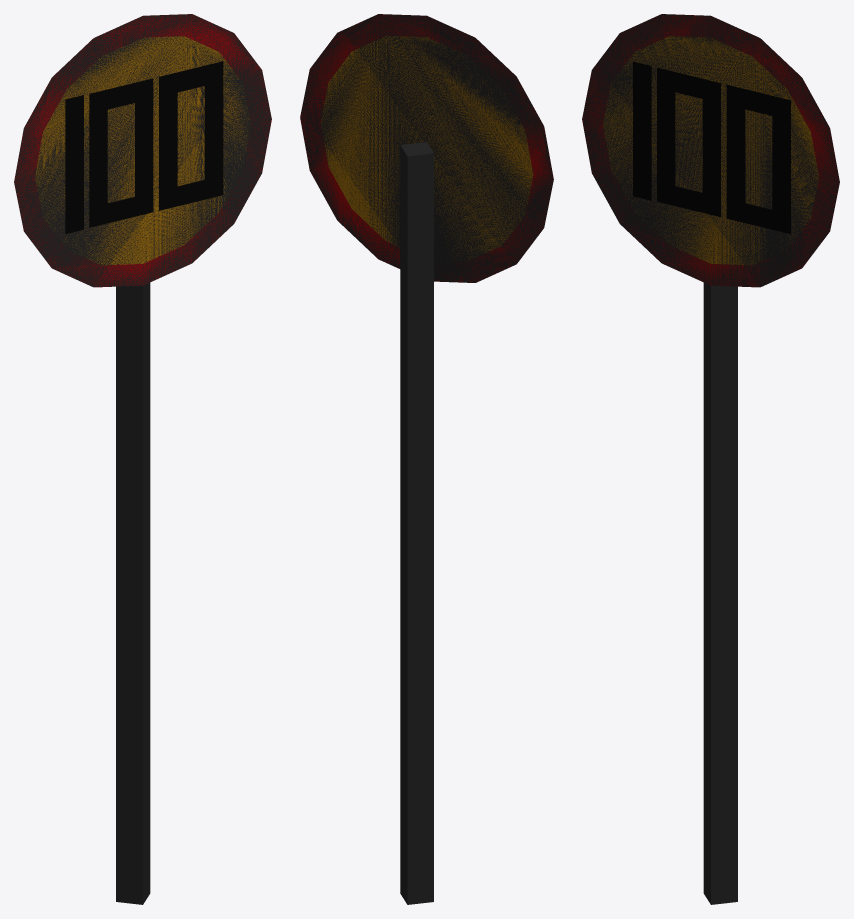
The model's file is 100kmh.obj.
3 renders of one model, left to right at view 1: azimuth 30°, elevation 25°; view 2: azimuth 150°, elevation 25°; view 3: azimuth 330°, elevation 25°, orthographic.
Visible parts, largest first — view 1: Cylinder.001; view 2: Cylinder.001; view 3: Cylinder.001.
Boxes of the visible parts, x1,y1,x2,y2 form: Cylinder.001: (14,14,271,904); Cylinder.001: (300,14,553,904); Cylinder.001: (582,14,839,904).
Bounding box in the file's own units: 0.8957 × 2.95 × 0.1199.
